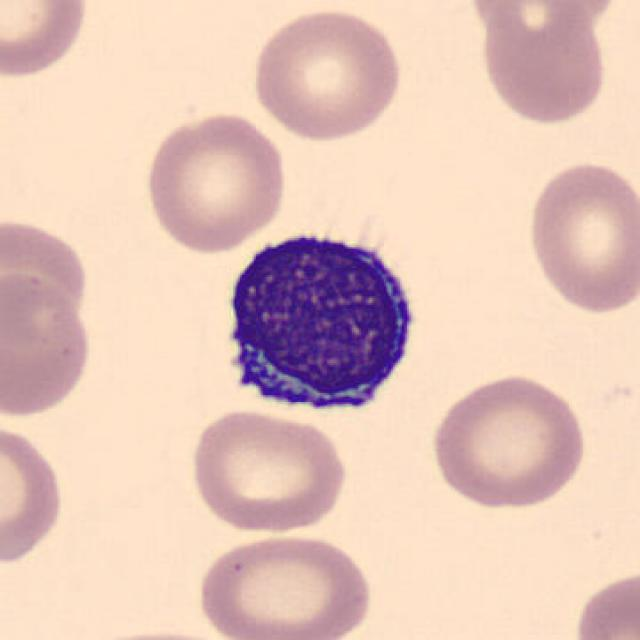Lymphocyte: (206, 214, 428, 428)
RBC: (425, 370, 590, 513), (247, 4, 407, 144), (140, 107, 290, 255), (185, 405, 350, 536), (192, 530, 377, 640), (523, 157, 638, 317), (473, 3, 611, 128), (0, 270, 96, 421), (0, 211, 92, 340), (0, 418, 68, 569), (0, 0, 91, 81), (462, 0, 614, 44), (569, 566, 638, 640)
